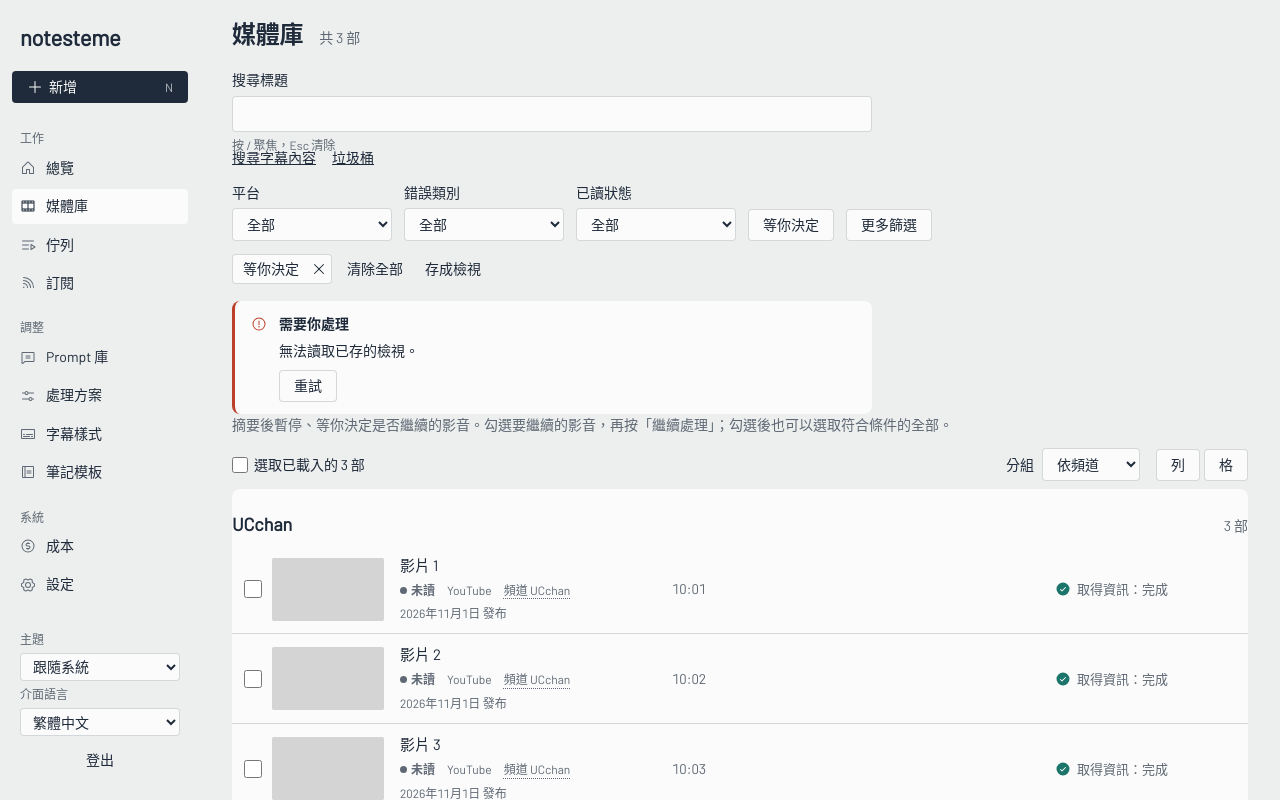
Scenario: 媒體庫：批次操作（LIB-08） › 等你決定：勾選兩部後繼續處理，對話框顯示數量與預估費用，只送出勾選的（DIG-R7）
The image size is (1280, 800).
Click the checkbox named "選取「影片 1」" at x=253, y=589, box x1=244 y1=580 x2=262 y2=598
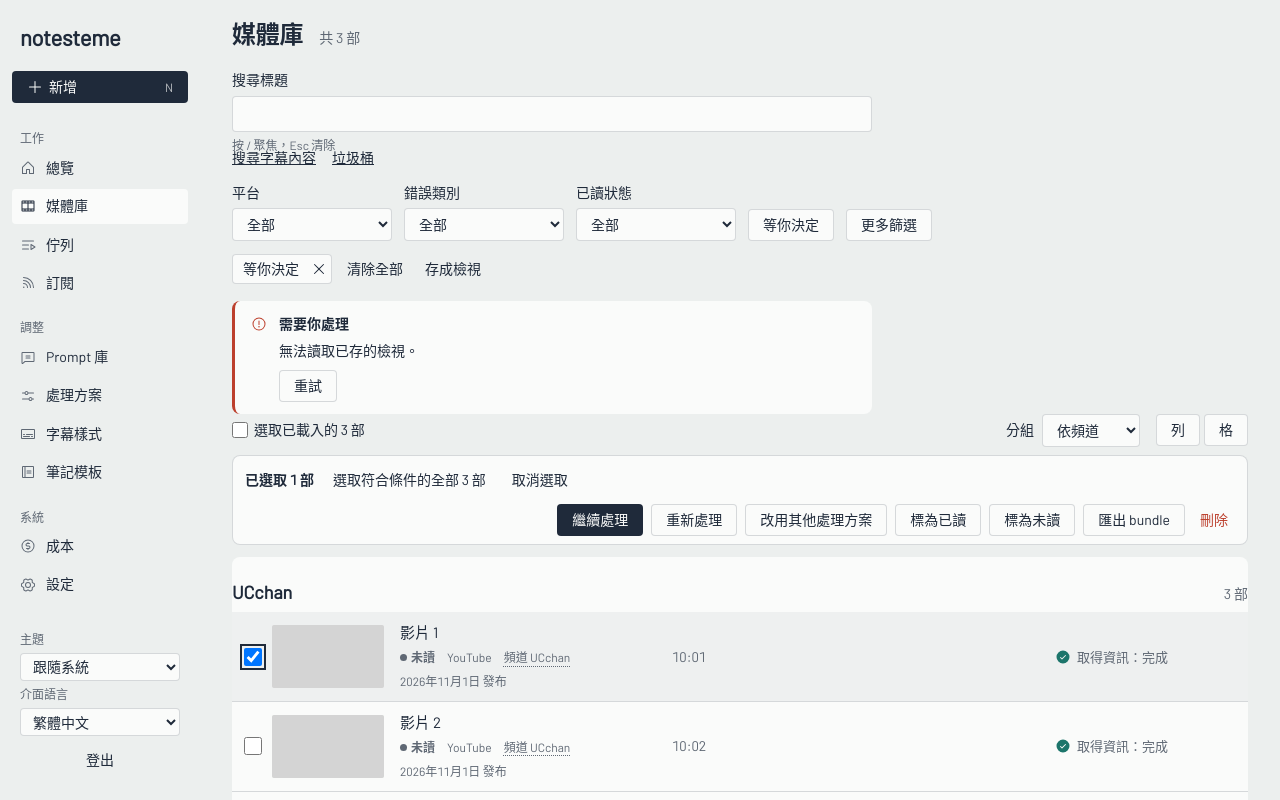
Click the checkbox named "選取「影片 2」" at x=253, y=746, box x1=244 y1=737 x2=262 y2=755
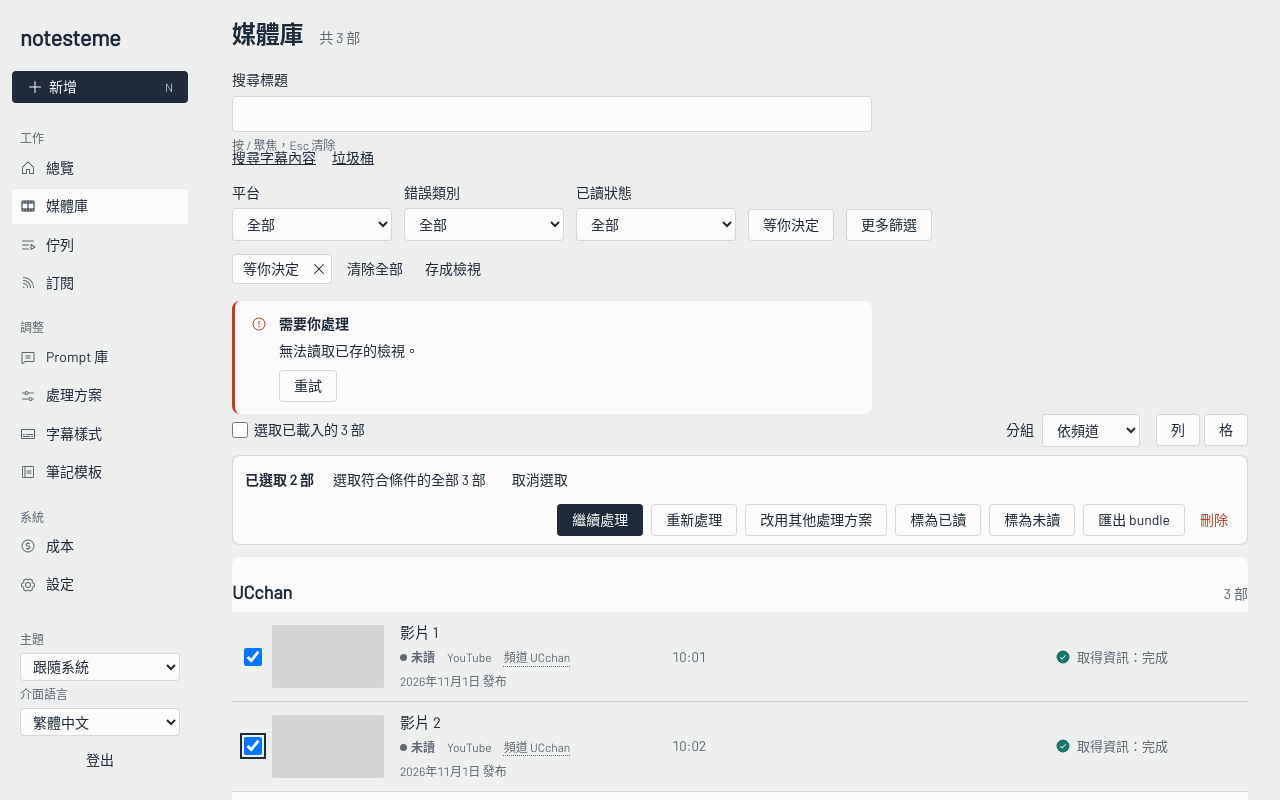
Click the button "繼續處理" at x=600, y=520, box x1=557 y1=504 x2=643 y2=536
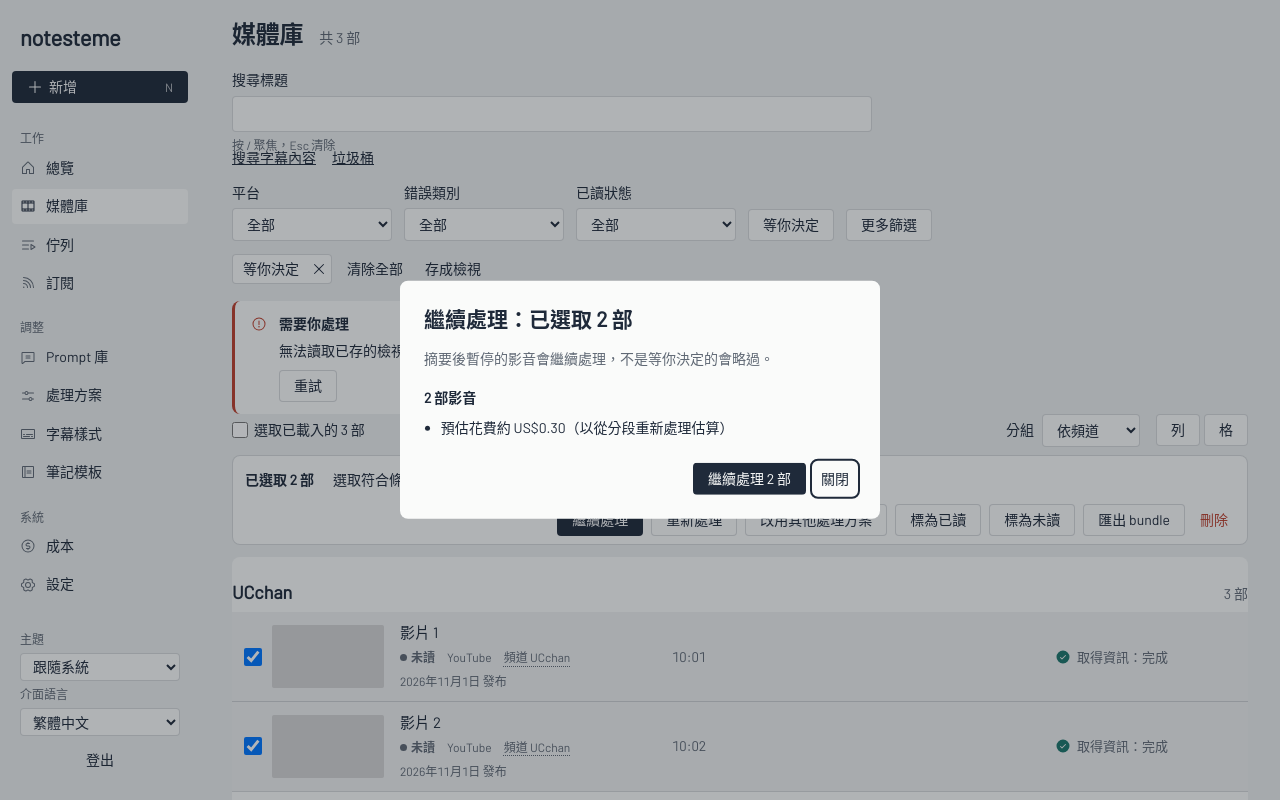
expect the list item "預估花費約 US$0.30（以從分段重新處理估算）" is shown: met, box x1=441 y1=419 x2=734 y2=436
Click the button "繼續處理 2 部" at x=749, y=479, box x1=693 y1=463 x2=806 y2=495
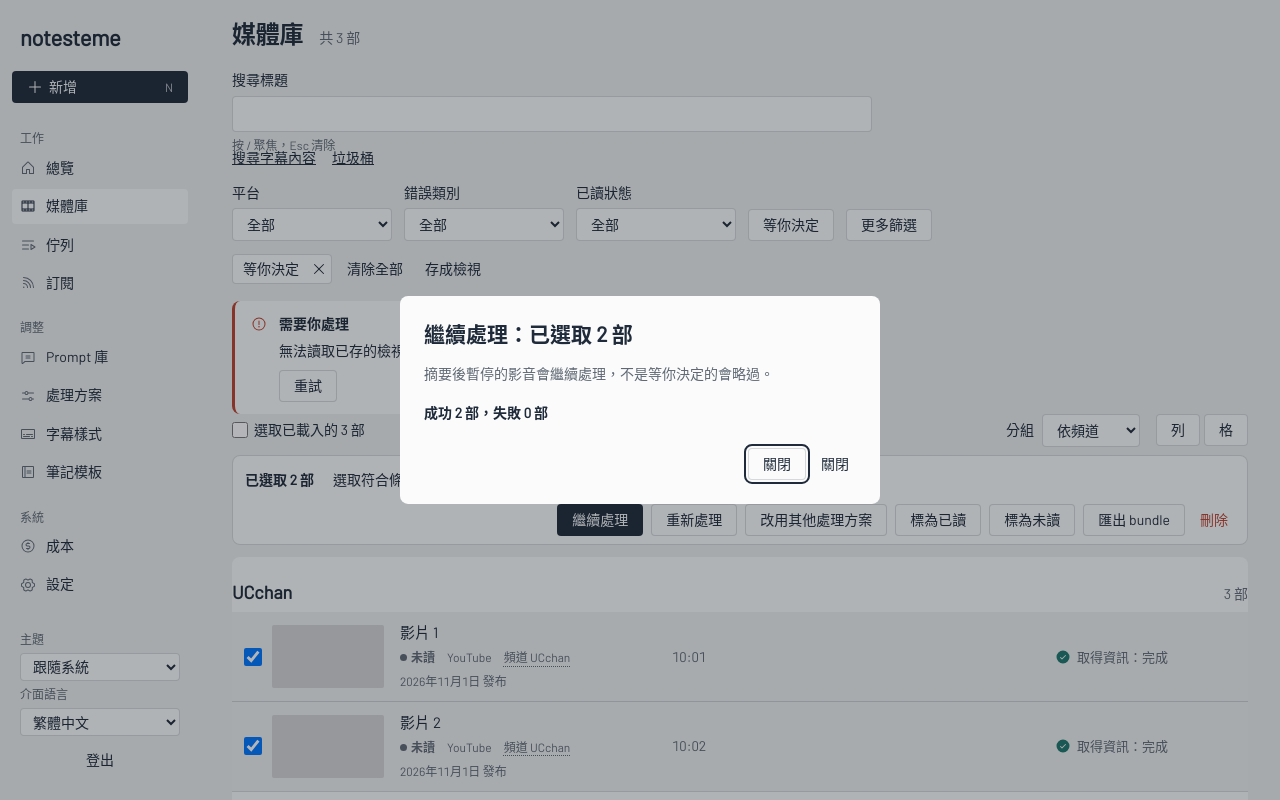
expect the text "成功 2 部，失敗 0 部" is shown: met, box x1=424 y1=404 x2=548 y2=421
